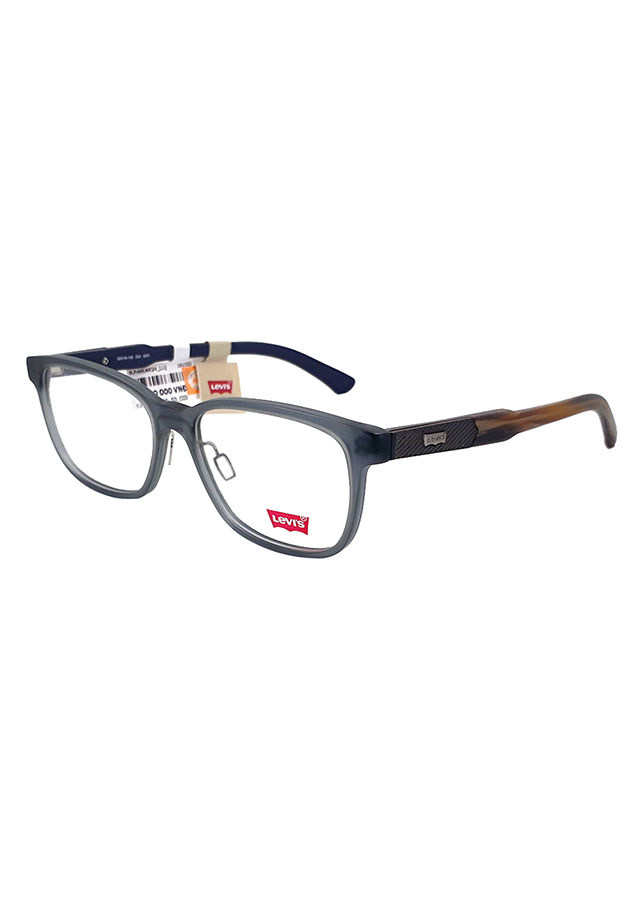Levi's: (260, 500, 314, 540), (197, 375, 243, 399)
